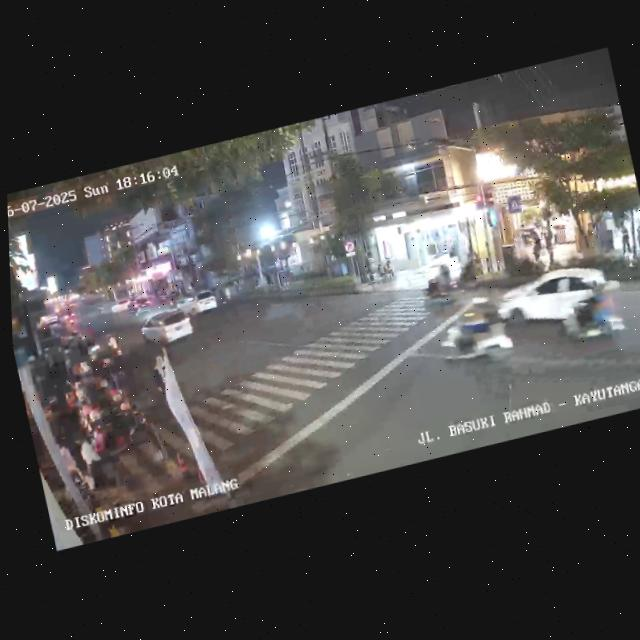car: (490, 255, 623, 355), (136, 303, 199, 354), (173, 287, 220, 319)
motorcycle: (427, 288, 520, 379), (556, 280, 631, 355), (418, 259, 464, 311), (103, 330, 124, 364)
person: (147, 352, 172, 404), (617, 224, 633, 257), (527, 231, 543, 263), (634, 220, 640, 253)
